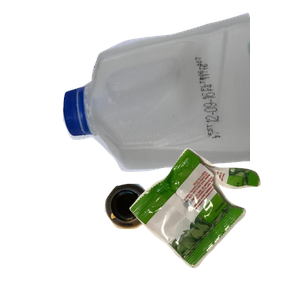glass: (102, 181, 246, 300)
metal: (90, 44, 289, 195)
plastic: (60, 10, 300, 175)
trash: (127, 146, 300, 300)
